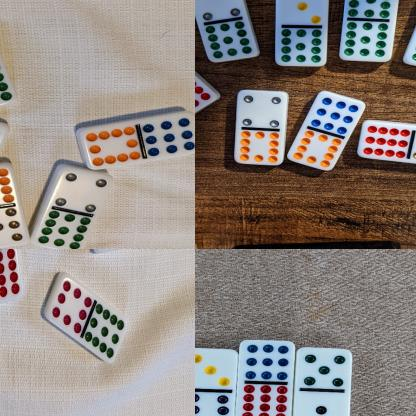pip-1: (291, 391, 350, 416)
pip-10: (82, 123, 141, 171), (287, 131, 341, 172), (232, 130, 284, 166), (0, 163, 17, 209)
pip-11: (85, 304, 127, 364), (338, 21, 394, 63), (30, 211, 90, 249), (203, 22, 258, 63), (275, 27, 327, 67), (342, 0, 401, 21), (0, 63, 14, 115), (401, 28, 416, 71)
pip-12: (356, 122, 412, 159), (234, 383, 292, 416), (0, 249, 21, 308), (195, 74, 218, 119)
pip-3: (195, 349, 238, 392), (275, 0, 328, 27)
pip-4: (54, 168, 112, 214), (236, 90, 287, 130), (195, 0, 240, 22)
pip-5: (295, 348, 352, 391)
pip-6: (195, 391, 234, 416)
pip-7: (0, 207, 26, 249)
pip-8: (45, 279, 91, 335)
pip-9: (140, 113, 195, 160), (239, 340, 295, 384), (310, 91, 364, 134)
